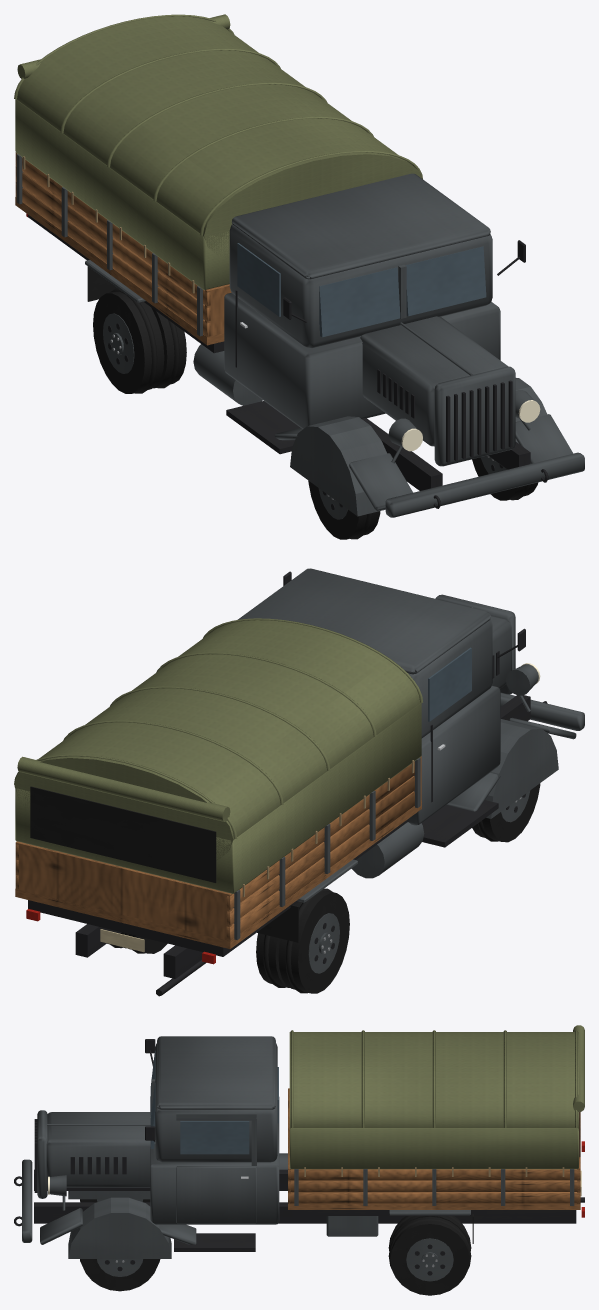
File: OB_Ciezarowka.fbx
3 renders of one model, top to bottom at view 1: azimuth 30°, elevation 25°; view 2: azimuth 150°, elevation 25°; view 3: azimuth 270°, elevation 25°, orthographic. The views are drawn at different scales.
Parts seen in each view (by area): view 1: Karoseria, Kolo_PT, Kolo_PP, Kolo_LP, Reflektory; view 2: Karoseria, Kolo_PT, Kolo_PP; view 3: Karoseria, Drzwi_Kierowcy, Kolo_LT, Kolo_LP.
Boxes of the visible parts, x1=… form: Karoseria: x1=14, y1=14, x2=584, y2=517; Kolo_PT: x1=93, y1=289, x2=186, y2=393; Kolo_PP: x1=308, y1=480, x2=380, y2=539; Kolo_LP: x1=472, y1=455, x2=538, y2=500; Reflektory: x1=401, y1=400, x2=540, y2=451; Karoseria: x1=14, y1=568, x2=584, y2=996; Kolo_PT: x1=256, y1=888, x2=349, y2=993; Kolo_PP: x1=472, y1=783, x2=540, y2=842; Karoseria: x1=14, y1=1025, x2=584, y2=1258; Drzwi_Kierowcy: x1=176, y1=1113, x2=256, y2=1223; Kolo_LT: x1=388, y1=1216, x2=471, y2=1295; Kolo_LP: x1=80, y1=1259, x2=160, y2=1291.
Bounding box in the file's own units: 2.43 × 2.7 × 6.63.
